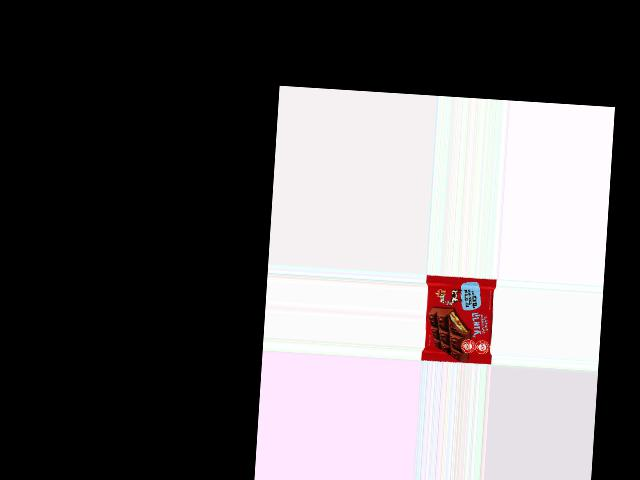chocolate: (422, 277, 497, 363)
